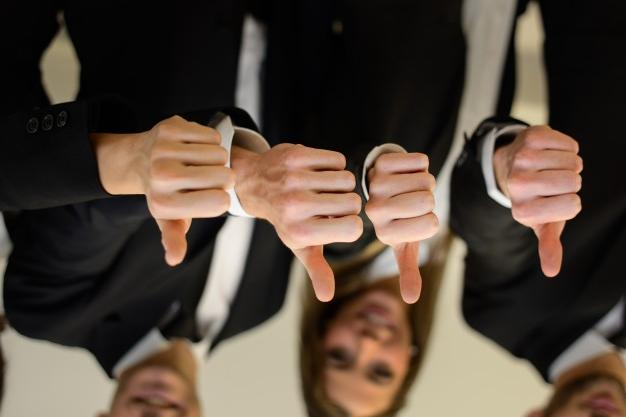thumbsdown: (279, 143, 364, 303), (145, 121, 235, 266), (505, 126, 583, 278), (365, 153, 439, 304)
